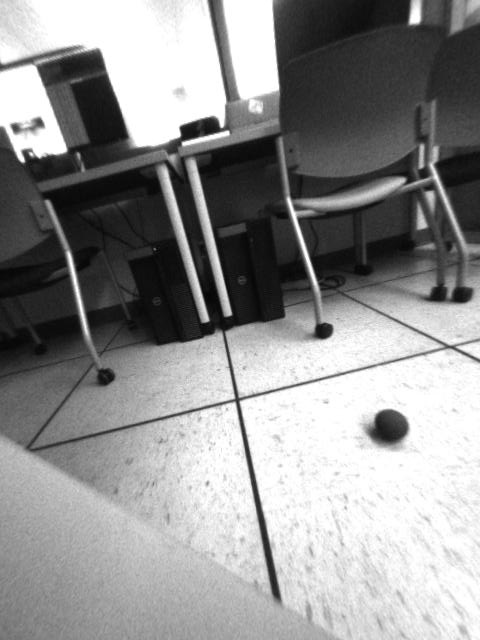dogtoy: (364, 403, 416, 446)
